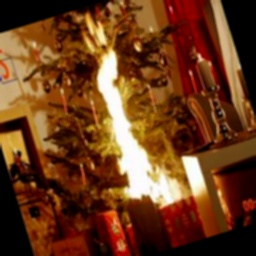fire: (72, 15, 190, 218)
